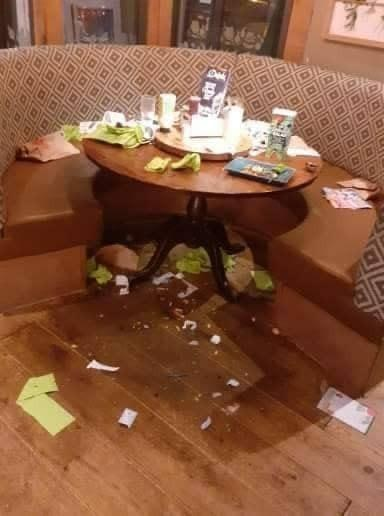Messy Table: (45, 69, 360, 297)
